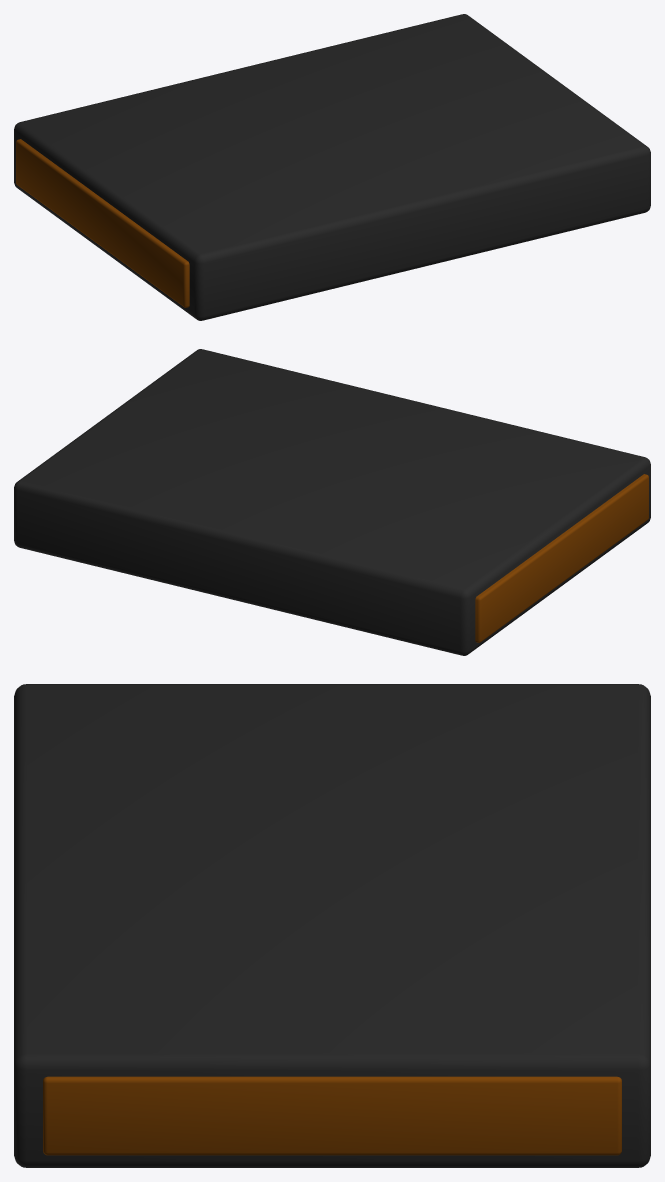
Rendered from Типо что то нужное 1.fbx.
3 renders of one model, top to bottom at view 1: azimuth 30°, elevation 25°; view 2: azimuth 150°, elevation 25°; view 3: azimuth 270°, elevation 25°, orthographic. The views are drawn at different scales.
Visible parts, largest first — view 1: Cube_6, Cube_11; view 2: Cube_6, Cube_11; view 3: Cube_6, Cube_11.
Part boxes in pixels (x1=…): Cube_6: x1=14, y1=14, x2=650, y2=320; Cube_11: x1=16, y1=139, x2=189, y2=307; Cube_6: x1=14, y1=349, x2=650, y2=655; Cube_11: x1=475, y1=474, x2=648, y2=642; Cube_6: x1=14, y1=684, x2=650, y2=1167; Cube_11: x1=43, y1=1076, x2=621, y2=1155.
Bounding box in the file's own units: 113 × 15.49 × 79.13.
